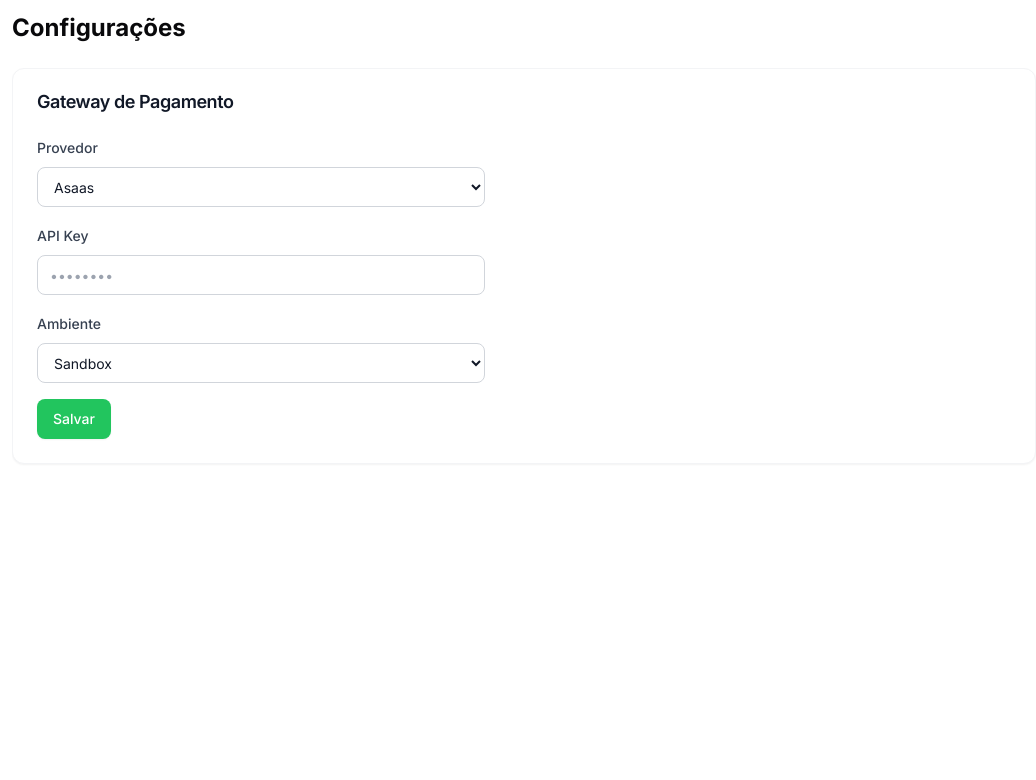
it: SettingsPage — Multi-Provider › validation › blocks submission when Stripe required fields are missing
Select "Stripe" in the dropdown labelled "Provedor" at (261, 187), box [37,167,485,207]
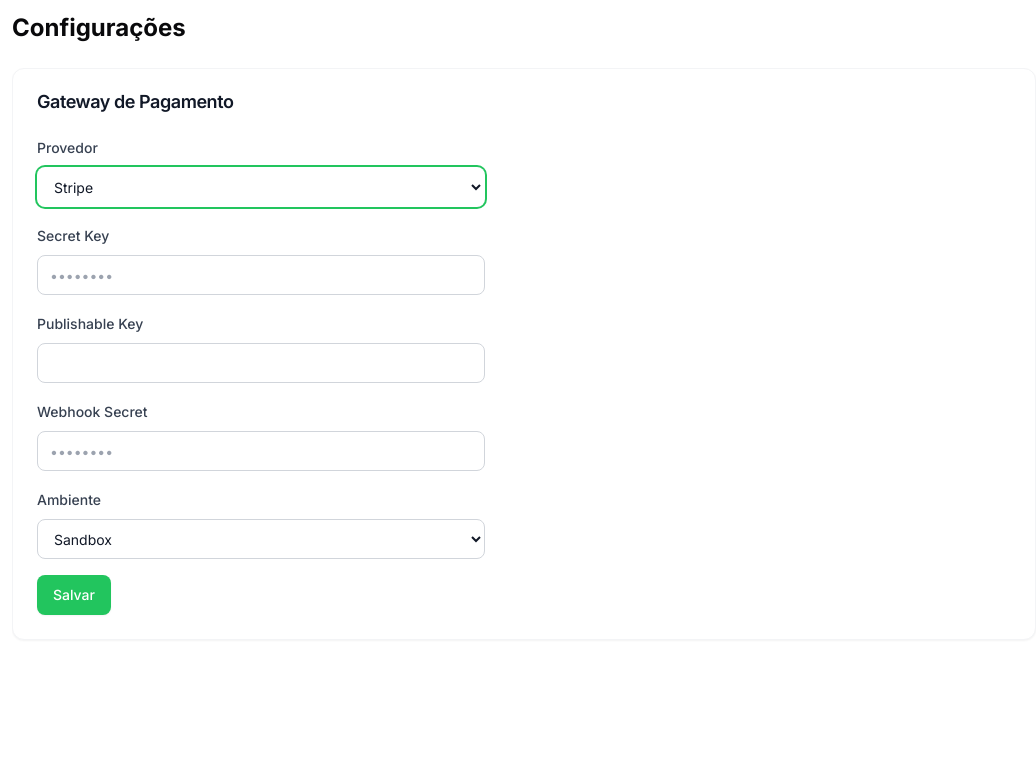
Type "sk_test" into the password field labelled "Secret Key" at (261, 275), box [37,255,485,295]
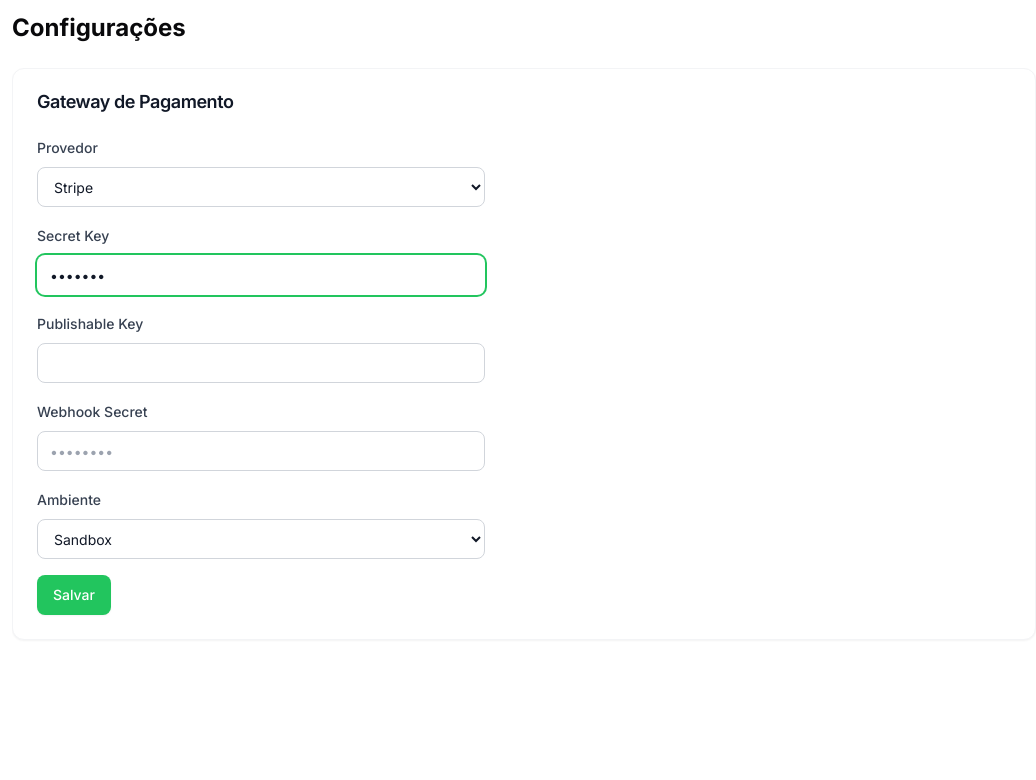
# publishableKey missing
Click the button "Salvar" at (74, 595), box [37,575,111,615]
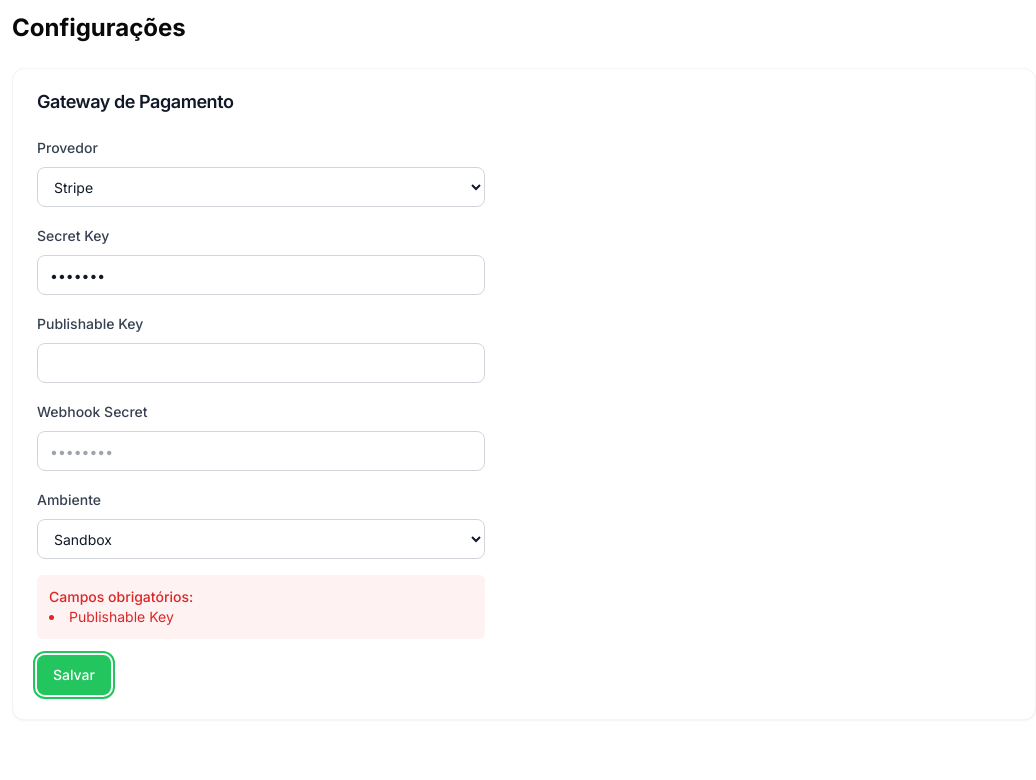
expect the text "Publishable Key" is shown 2 times: met, box [37,315,143,332]; [69,608,174,625]
expect the text "Campos obrigatórios:" is shown: met, box [49,588,193,605]
